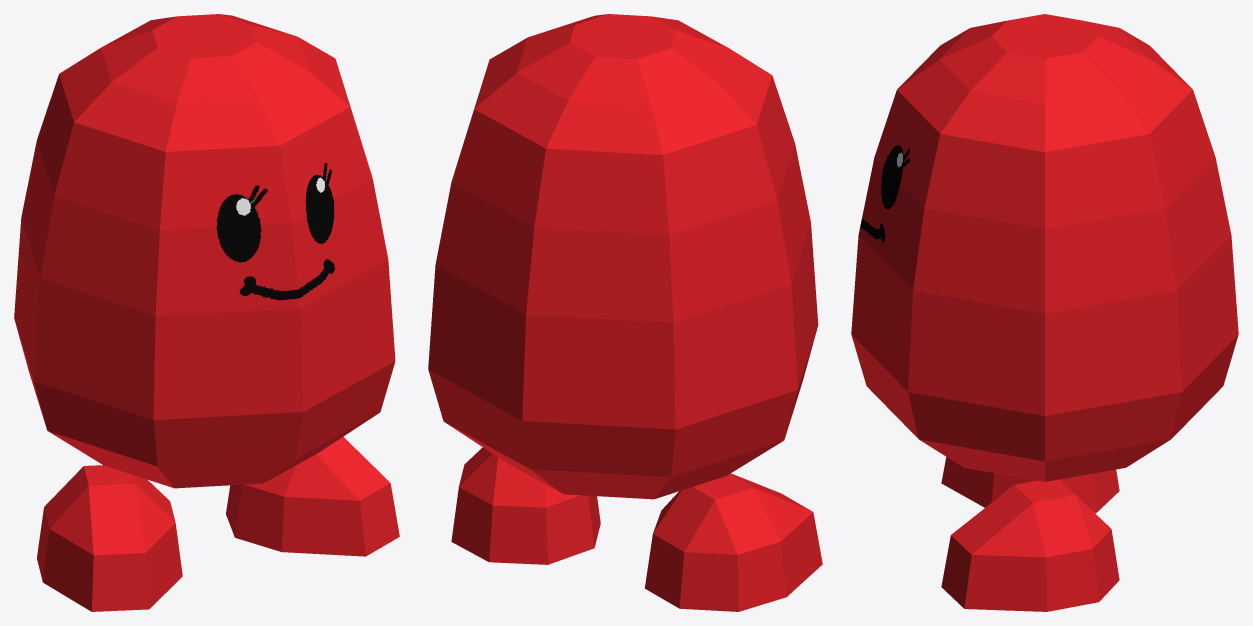
Rendered from Enemy_R3.fbx.
3 views of the same model, side by side, from view 1: azimuth 30°, elevation 25°; view 2: azimuth 150°, elevation 25°; view 3: azimuth 270°, elevation 25° (orthographic). The views are drawn at different scales.
Visible parts, largest first — view 1: Body, LegR, LegL; view 2: Body, LegR, LegL; view 3: Body, LegL, LegR.
Boxes of the visible parts, bbox=[...] form: Body: bbox=[14, 14, 395, 488]; LegR: bbox=[37, 465, 182, 611]; LegL: bbox=[226, 436, 399, 556]; Body: bbox=[428, 14, 818, 499]; LegR: bbox=[644, 473, 822, 611]; LegL: bbox=[451, 447, 600, 564]; Body: bbox=[851, 14, 1238, 481]; LegL: bbox=[941, 479, 1119, 611]; LegR: bbox=[941, 457, 1119, 513].
Size of the model in its own units: 1.01 by 1.44 by 1.01.
Materials: 1 (1 with a texture image).
